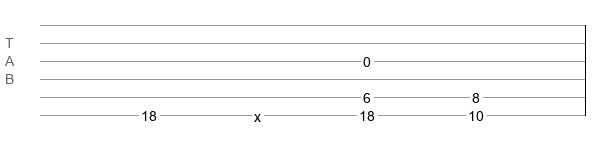0: (363, 54, 371, 64)
10: (468, 108, 484, 118)
18: (141, 108, 157, 118), (359, 108, 375, 118)
6: (363, 90, 371, 100)
8: (472, 90, 480, 100)
x: (254, 109, 261, 117)
